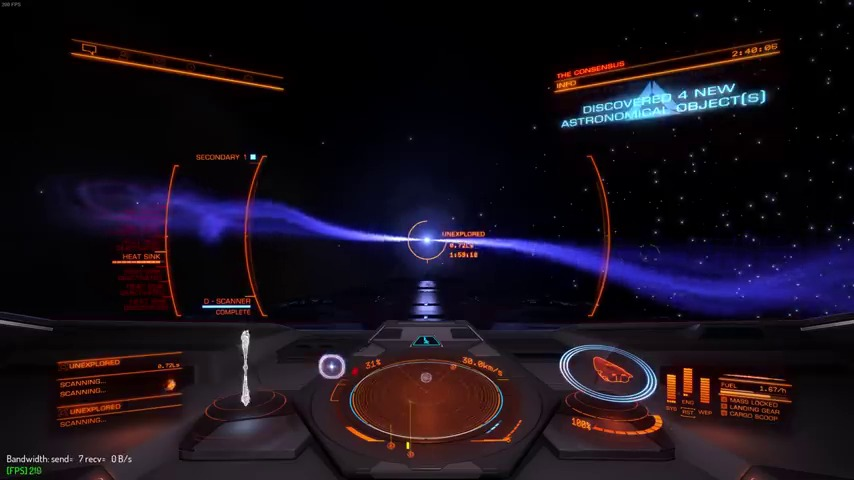jetcone: (453, 225, 849, 324), (456, 227, 850, 321)
